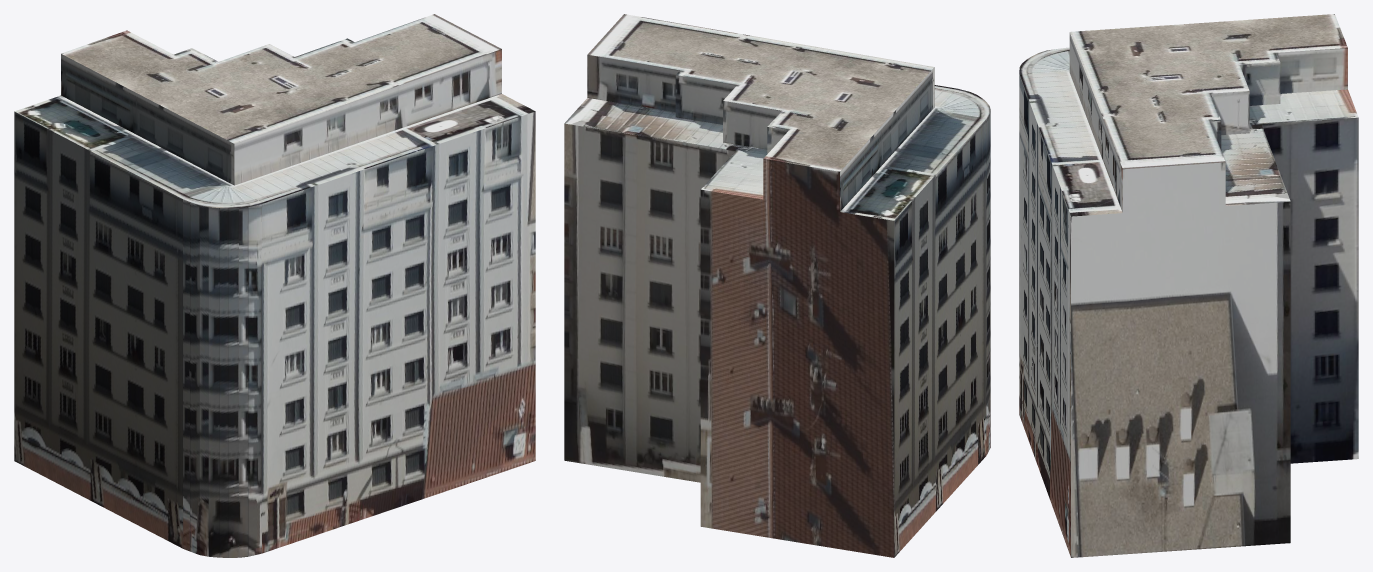
The picture shows the model from 3 angles, left to right: view 1: azimuth 30°, elevation 25°; view 2: azimuth 150°, elevation 25°; view 3: azimuth 270°, elevation 25°; orthographic projection. The views are drawn at different scales.
Visible parts, largest first — view 1: Z_UP; view 2: Z_UP; view 3: Z_UP.
Boxes of the visible parts, <box> form: Z_UP: <box>14,14,535,557</box>; Z_UP: <box>564,14,990,557</box>; Z_UP: <box>1019,14,1358,557</box>.
Size of the model in its own units: 28.71 by 27.66 by 22.09.
2 materials, 1 textured.
